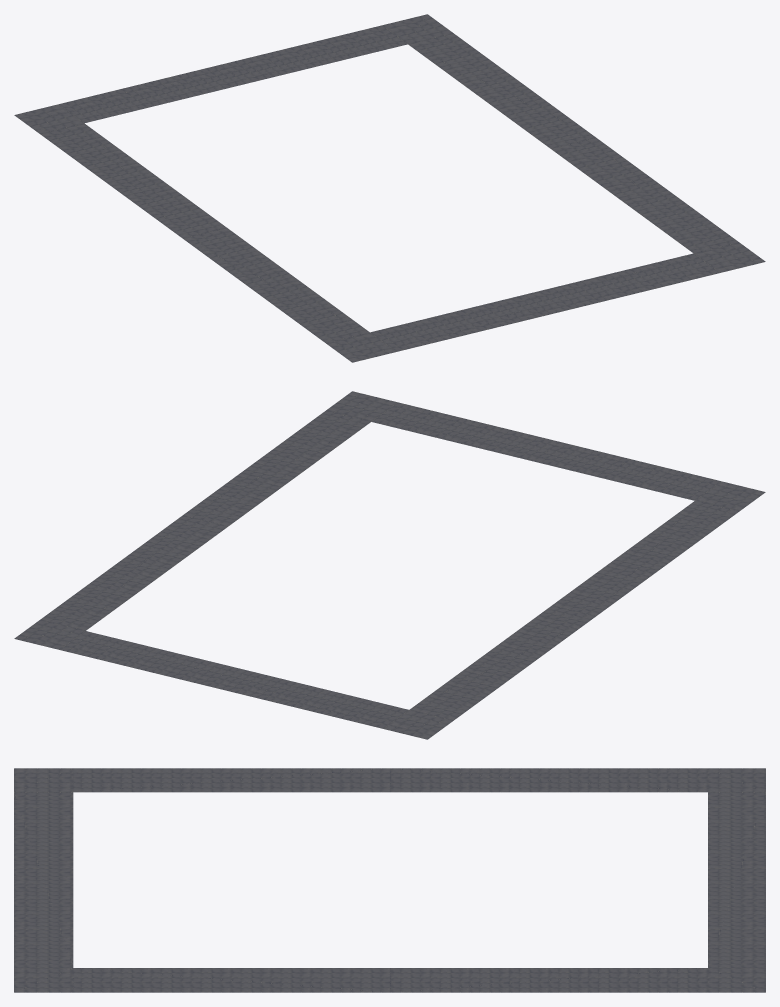
Rendered from SM_SJJ_StereobateC.fbx.
3 views of the same model, one above another, from view 1: azimuth 30°, elevation 25°; view 2: azimuth 150°, elevation 25°; view 3: azimuth 270°, elevation 25° (orthographic). The views are drawn at different scales.
Visible parts, largest first — view 1: SM_SJJ_StereobateC; view 2: SM_SJJ_StereobateC; view 3: SM_SJJ_StereobateC.
Part boxes in pixels (box(x1,y1,x2,y2)): SM_SJJ_StereobateC: box(14, 14, 765, 362); SM_SJJ_StereobateC: box(14, 391, 765, 739); SM_SJJ_StereobateC: box(14, 768, 765, 992).
Size of the model in its own units: 1481 by 2098 by 0.000474.
Materials: 1 (1 with a texture image).
